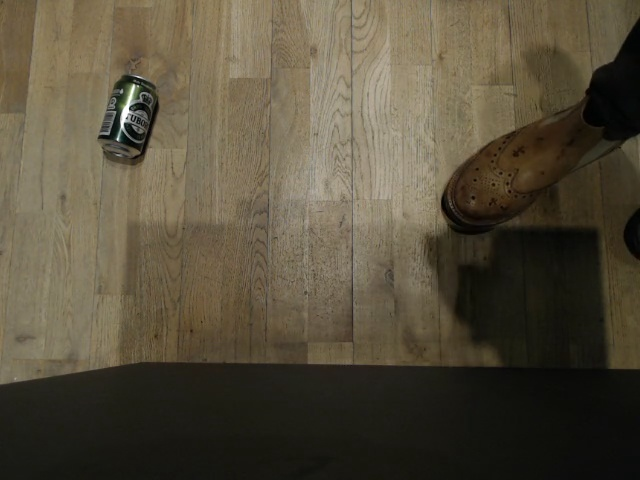beer: (95, 75, 160, 159)
